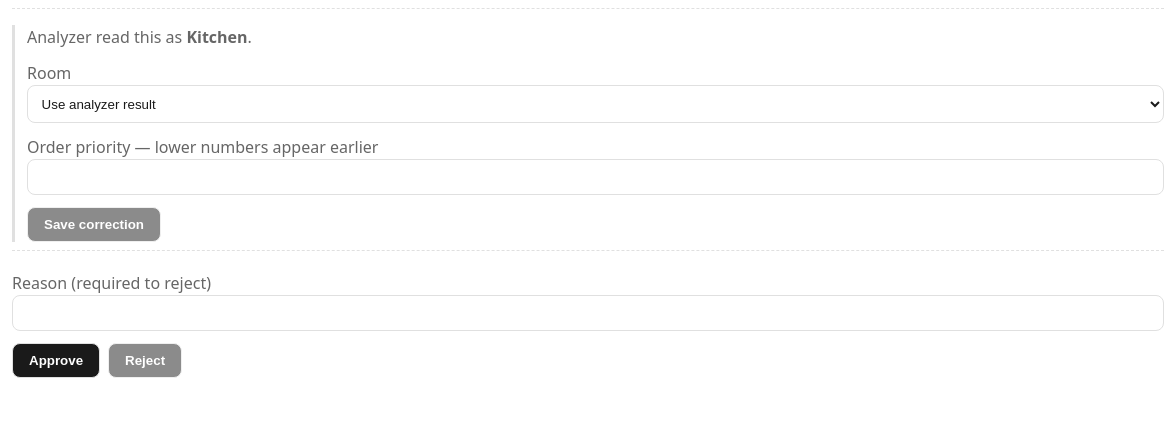
Scenario: unsaved corrections block the review decision › blocks approve and reject once the order is edited
In the field named "Order priority for a.jpg": (596, 177) [27, 159, 1164, 195], type "2"
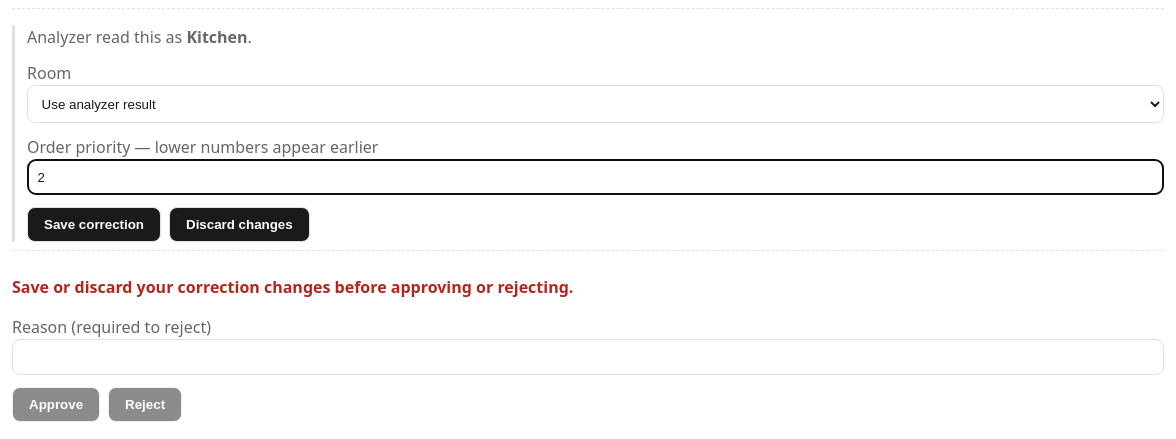
Expected: the button "Reject" is disabled, [108, 387, 182, 422]
Expected: the button "Approve" is disabled, [12, 387, 100, 422]
